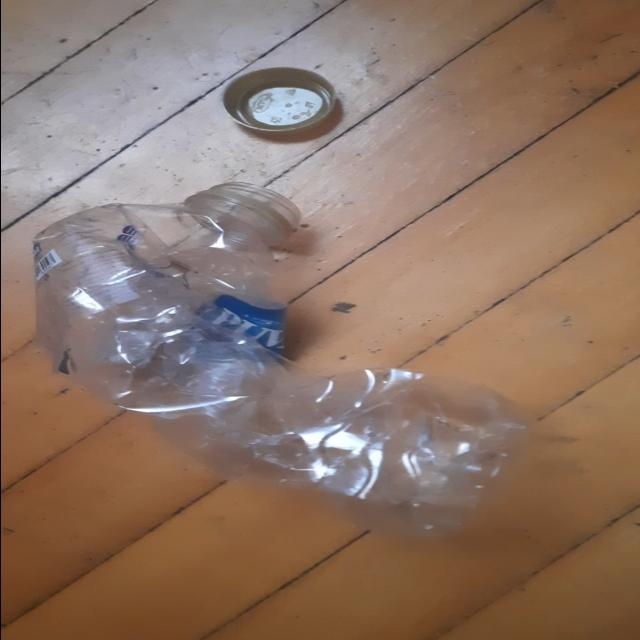Plastic: (32, 182, 532, 534)
